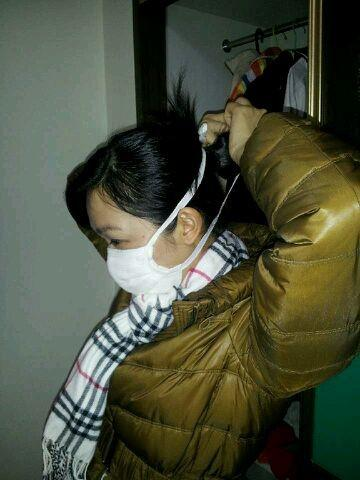OK: (101, 211, 188, 299)
